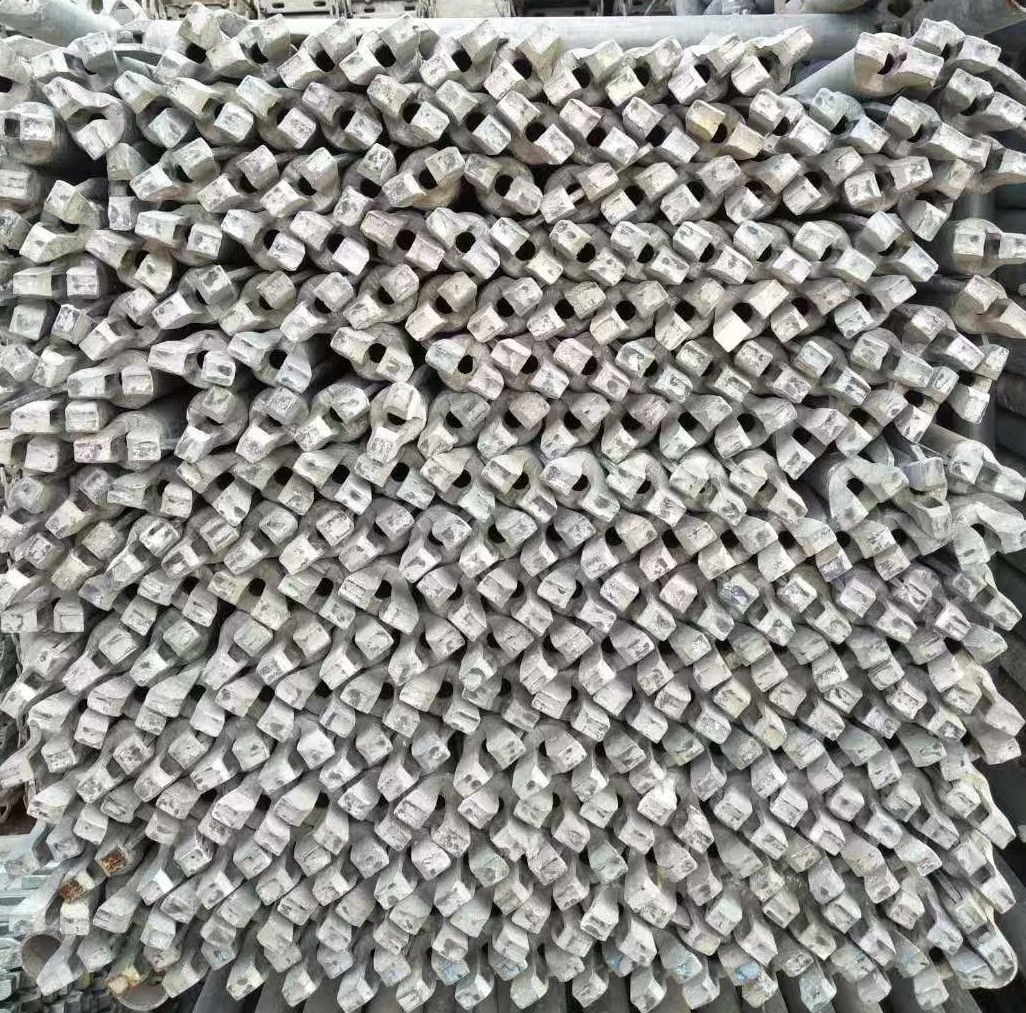NHsquare_steel: (556, 92, 641, 169), (879, 95, 972, 165), (421, 203, 502, 282), (717, 572, 797, 651), (496, 88, 574, 169), (237, 71, 314, 153), (723, 149, 804, 226), (453, 508, 542, 578), (859, 208, 942, 283), (366, 75, 454, 145), (667, 216, 755, 286), (621, 92, 700, 169), (547, 215, 629, 289), (337, 17, 424, 86), (287, 450, 374, 519), (907, 155, 975, 243), (473, 570, 558, 640), (218, 208, 308, 274), (435, 80, 513, 156), (333, 504, 414, 577), (14, 176, 81, 264), (460, 152, 548, 219), (782, 144, 865, 215), (223, 330, 315, 394), (362, 844, 447, 913), (298, 82, 385, 149), (790, 217, 877, 284), (610, 217, 692, 288), (76, 290, 158, 361), (450, 791, 533, 861), (305, 838, 393, 904), (532, 570, 617, 638), (715, 275, 792, 350), (484, 25, 562, 99), (168, 76, 254, 143), (489, 845, 570, 916), (87, 228, 174, 294), (831, 580, 918, 646), (577, 514, 659, 584), (851, 27, 945, 88), (416, 20, 500, 88), (323, 325, 415, 387), (488, 212, 565, 286), (940, 66, 1026, 132), (653, 578, 738, 644), (332, 573, 421, 636), (634, 517, 720, 582), (423, 334, 504, 403), (546, 843, 628, 911), (427, 851, 510, 918), (598, 572, 676, 643), (730, 462, 810, 531), (576, 628, 656, 697), (879, 680, 968, 742), (543, 37, 624, 105), (198, 146, 279, 214), (661, 154, 742, 222), (289, 209, 370, 277), (251, 620, 333, 687), (603, 464, 690, 527), (750, 92, 833, 158), (824, 897, 898, 971), (476, 458, 560, 523), (841, 155, 942, 209), (915, 10, 1000, 74), (150, 265, 235, 329), (905, 306, 985, 374), (875, 787, 960, 851), (488, 335, 569, 402), (360, 209, 446, 272), (831, 462, 906, 534), (803, 834, 879, 905), (815, 90, 894, 158), (193, 843, 272, 911), (44, 81, 111, 161), (551, 337, 631, 404), (682, 842, 763, 908), (380, 147, 469, 207), (537, 160, 623, 222), (694, 518, 780, 580), (273, 570, 359, 632), (45, 845, 131, 907), (341, 264, 423, 329), (677, 945, 760, 1009), (662, 466, 749, 527), (745, 835, 823, 903), (396, 512, 475, 579), (131, 841, 210, 908), (830, 274, 915, 336), (515, 512, 600, 574), (51, 522, 124, 594), (655, 276, 726, 350), (42, 467, 116, 538), (768, 277, 850, 341), (449, 623, 531, 687), (105, 517, 181, 586), (262, 145, 339, 213), (463, 274, 541, 341), (3, 644, 70, 722), (769, 791, 847, 858), (622, 842, 700, 909), (229, 457, 316, 517), (710, 796, 789, 862), (381, 624, 465, 686), (732, 219, 812, 284), (588, 277, 668, 342), (75, 740, 155, 805), (256, 838, 330, 908), (607, 38, 682, 107), (779, 407, 848, 482), (770, 676, 845, 745), (177, 458, 253, 526), (711, 684, 787, 752), (335, 678, 421, 738), (335, 788, 413, 854), (214, 272, 297, 334), (505, 738, 588, 800), (666, 34, 745, 99), (792, 342, 871, 407), (1, 534, 66, 613), (632, 632, 711, 697), (372, 738, 451, 803), (68, 578, 161, 633), (476, 390, 550, 459), (763, 893, 837, 962), (278, 22, 359, 85), (672, 341, 753, 404), (928, 631, 1009, 694), (682, 97, 767, 157), (130, 138, 215, 198), (280, 272, 355, 340), (402, 272, 477, 340), (893, 576, 969, 643), (313, 626, 395, 688), (237, 386, 303, 463), (517, 627, 594, 693), (538, 462, 624, 521), (277, 507, 355, 572), (125, 620, 203, 685), (638, 789, 716, 854), (950, 897, 1015, 975), (822, 790, 905, 851), (117, 70, 181, 149), (419, 457, 498, 521), (389, 899, 468, 963), (416, 568, 487, 639), (747, 633, 831, 693), (833, 388, 907, 456), (611, 342, 692, 404), (446, 737, 527, 799), (705, 900, 781, 966), (862, 842, 947, 901), (389, 797, 472, 857), (510, 900, 593, 960), (161, 516, 240, 579), (685, 738, 765, 800), (205, 570, 290, 628), (199, 621, 270, 690), (291, 388, 370, 450), (222, 511, 301, 573), (713, 398, 796, 457), (350, 455, 439, 510), (947, 840, 1014, 913), (732, 29, 812, 90), (524, 279, 604, 340), (811, 523, 898, 579), (650, 688, 734, 746), (941, 679, 1025, 737), (598, 165, 679, 225), (755, 520, 836, 580), (154, 787, 236, 846), (508, 795, 590, 854), (884, 896, 966, 955), (638, 900, 721, 958), (733, 343, 813, 403), (135, 573, 219, 630), (451, 905, 532, 964), (578, 908, 659, 967), (592, 683, 670, 744), (863, 636, 945, 694), (141, 339, 238, 388), (781, 580, 853, 646), (21, 790, 109, 844), (257, 734, 336, 794), (131, 737, 205, 801), (396, 681, 479, 738), (802, 733, 885, 790), (629, 947, 705, 1009), (61, 630, 138, 691), (334, 894, 411, 955), (539, 391, 610, 457), (845, 339, 935, 391), (272, 793, 350, 853), (221, 942, 301, 1000), (418, 391, 487, 458), (218, 894, 295, 954), (211, 799, 289, 858), (34, 305, 88, 390), (822, 683, 901, 741), (952, 342, 1007, 425), (873, 527, 956, 582), (274, 679, 357, 734), (856, 943, 932, 1003), (135, 207, 221, 260), (362, 380, 415, 466), (899, 365, 958, 442), (319, 732, 392, 794), (210, 686, 295, 739), (391, 955, 470, 1012), (509, 949, 585, 1008), (277, 949, 353, 1008), (691, 633, 771, 689), (810, 634, 890, 690), (660, 396, 731, 459), (159, 940, 237, 997), (86, 903, 176, 952), (276, 896, 353, 953), (335, 150, 394, 224), (752, 738, 826, 797), (958, 274, 1026, 338), (529, 689, 611, 742), (625, 736, 701, 793), (334, 954, 410, 1011), (942, 788, 1013, 849), (174, 386, 228, 466), (83, 686, 171, 735), (578, 797, 655, 853), (572, 741, 646, 799), (603, 393, 668, 459), (156, 5, 217, 75), (160, 895, 237, 950), (953, 574, 1026, 632), (104, 473, 194, 520), (740, 949, 814, 1006), (95, 795, 181, 844), (26, 698, 105, 751), (142, 688, 227, 737), (863, 740, 948, 789), (33, 944, 113, 996), (187, 741, 269, 791), (213, 18, 290, 71), (98, 943, 178, 994), (952, 447, 1026, 502), (800, 953, 872, 1009), (454, 954, 526, 1010), (569, 947, 635, 1007), (459, 682, 538, 732), (3, 740, 77, 793), (911, 458, 958, 541), (29, 34, 118, 77), (936, 735, 1022, 779), (4, 831, 80, 880), (1, 477, 48, 556), (100, 139, 139, 233), (916, 958, 993, 1005), (950, 222, 1026, 268), (957, 520, 1026, 570), (959, 135, 1026, 186), (11, 265, 101, 301), (1, 602, 85, 638), (66, 434, 166, 463), (11, 404, 104, 435), (65, 371, 159, 400), (4, 908, 89, 938), (1, 434, 61, 472), (1, 110, 58, 147)
